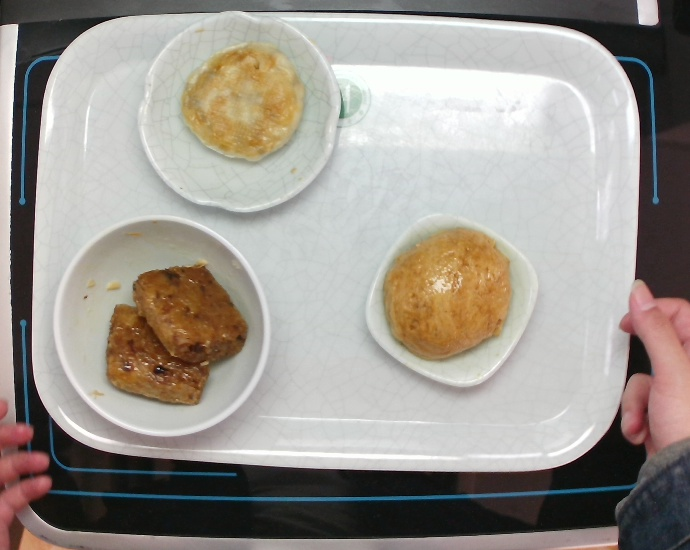JYsf-Ao_Yuan_Wan: (136, 5, 343, 215)
JYsf-Fan_Wan: (50, 216, 268, 441)
JYsf-Si_Fang_Die: (364, 211, 538, 390)
